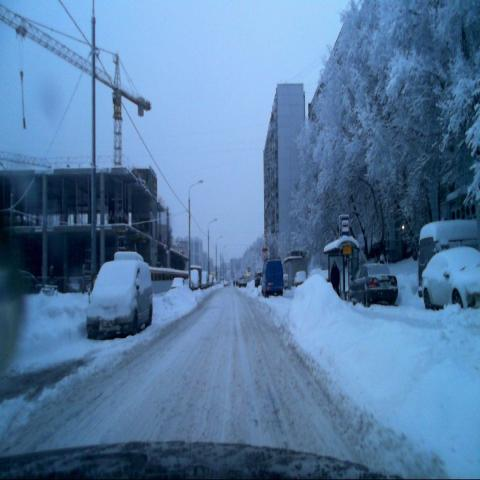5_16: (340, 216, 348, 236)
